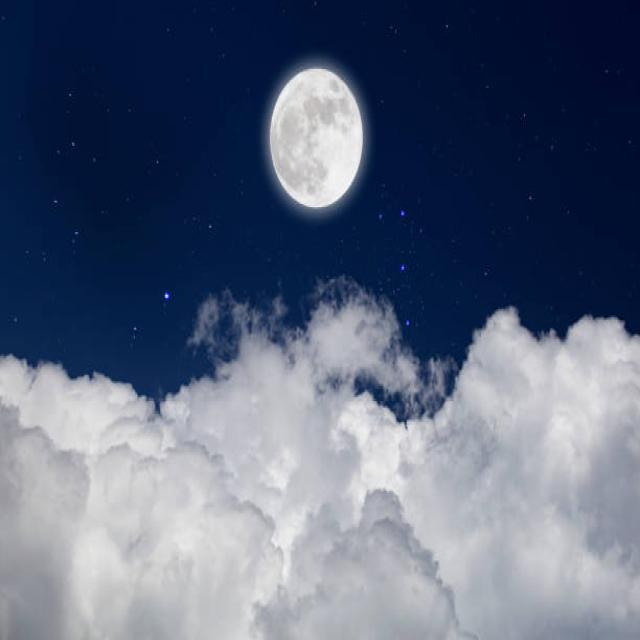moon: (265, 66, 363, 206)
